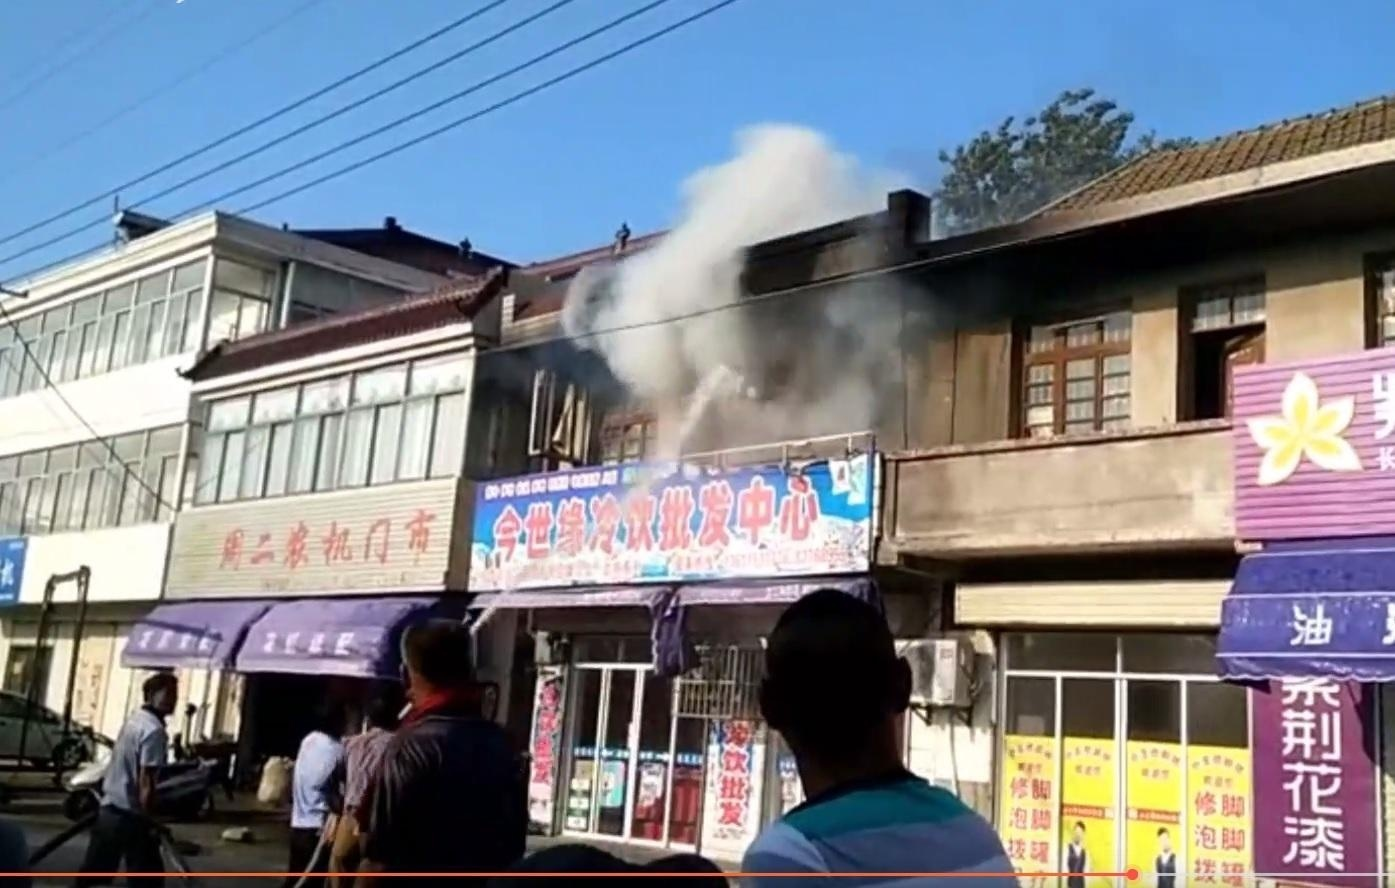fire: (1251, 365, 1358, 477)
